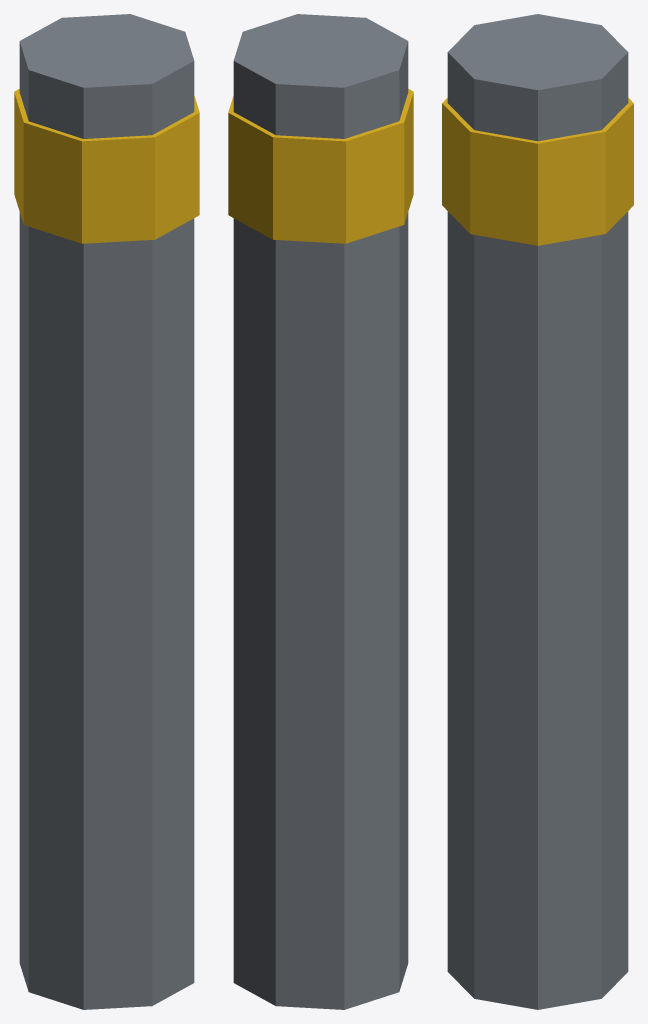
File: bollard.glb
3 renders of one model, left to right at view 1: azimuth 30°, elevation 25°; view 2: azimuth 150°, elevation 25°; view 3: azimuth 270°, elevation 25°, orthographic.
Parts seen in each view (by area): view 1: bollard_Body; view 2: bollard_Body; view 3: bollard_Body.
Part boxes in pixels (bbox=[...]): bollard_Body: bbox=[14, 14, 199, 1009]; bollard_Body: bbox=[228, 14, 413, 1009]; bollard_Body: bbox=[442, 14, 633, 1009].
Size of the model in its own units: 0.17 by 0.9 by 0.17.
